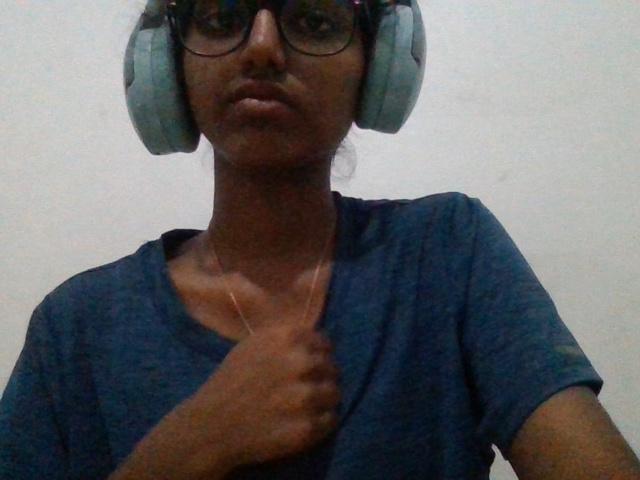Sorry: (154, 293, 377, 480)
